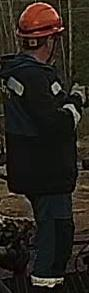gloves: (71, 83, 88, 104)
helmet: (15, 1, 65, 38)
vest: (0, 54, 77, 194)
